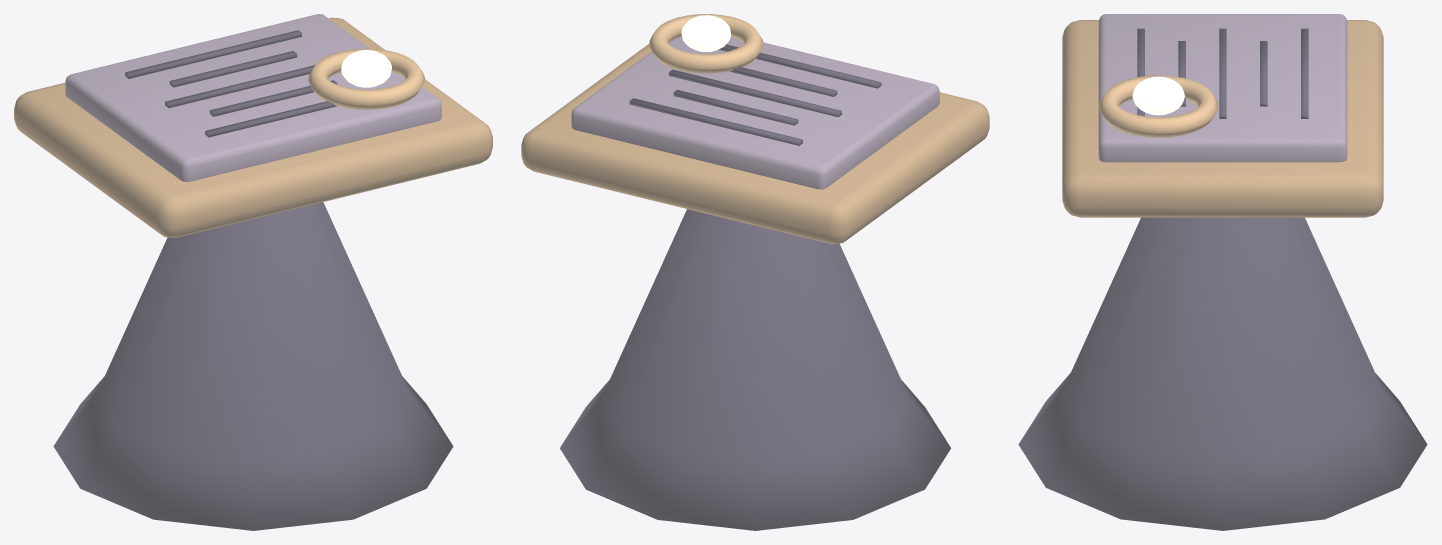
File: castle_detail_relic_cursed.glb
The picture shows the model from 3 angles, left to right: view 1: azimuth 30°, elevation 25°; view 2: azimuth 150°, elevation 25°; view 3: azimuth 270°, elevation 25°; orthographic projection. The views are drawn at different scales.
Visible parts, largest first — view 1: castle_detail_relic_cursed_surface; view 2: castle_detail_relic_cursed_surface; view 3: castle_detail_relic_cursed_surface.
Part boxes in pixels (box(x1,y1,x2,y2)): castle_detail_relic_cursed_surface: box(14, 14, 492, 530); castle_detail_relic_cursed_surface: box(521, 14, 989, 530); castle_detail_relic_cursed_surface: box(1018, 14, 1427, 530).
Bounding box in the file's own units: 1.4 × 1.53 × 1.4.
